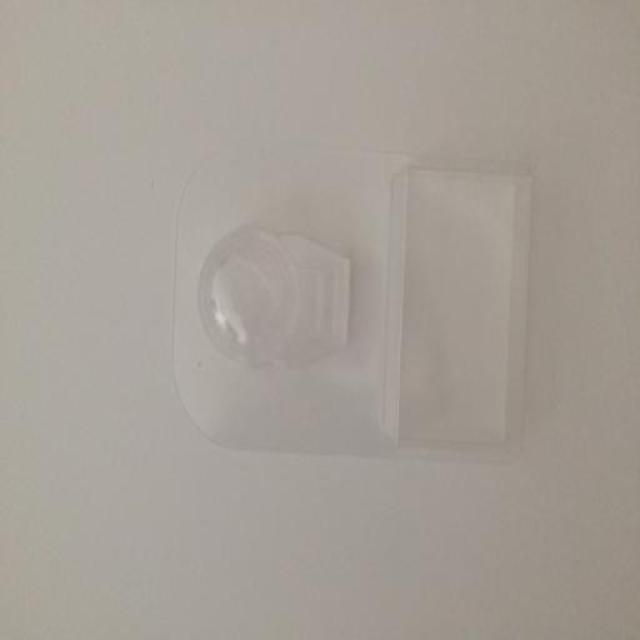plastic: (158, 111, 544, 512)
